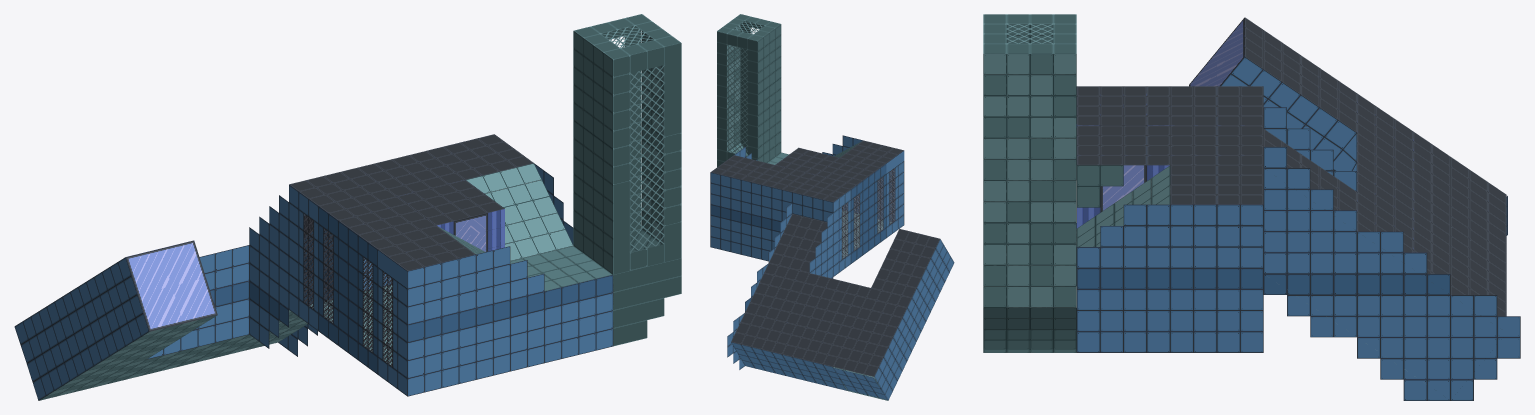
The model's file is demoLevel1.0.dae.
3 views of the same model, side by side, from view 1: azimuth 30°, elevation 25°; view 2: azimuth 150°, elevation 25°; view 3: azimuth 270°, elevation 25° (orthographic). The views are drawn at different scales.
Parts seen in each view (by area): view 1: Cube.001; view 2: Cube.001; view 3: Cube.001.
Boxes of the visible parts, bbox=[...] form: Cube.001: bbox=[14, 14, 681, 400]; Cube.001: bbox=[710, 14, 954, 400]; Cube.001: bbox=[983, 14, 1520, 400].
Bounding box in the file's own units: 26 × 23 × 22.01.
3 materials, 2 textured.
